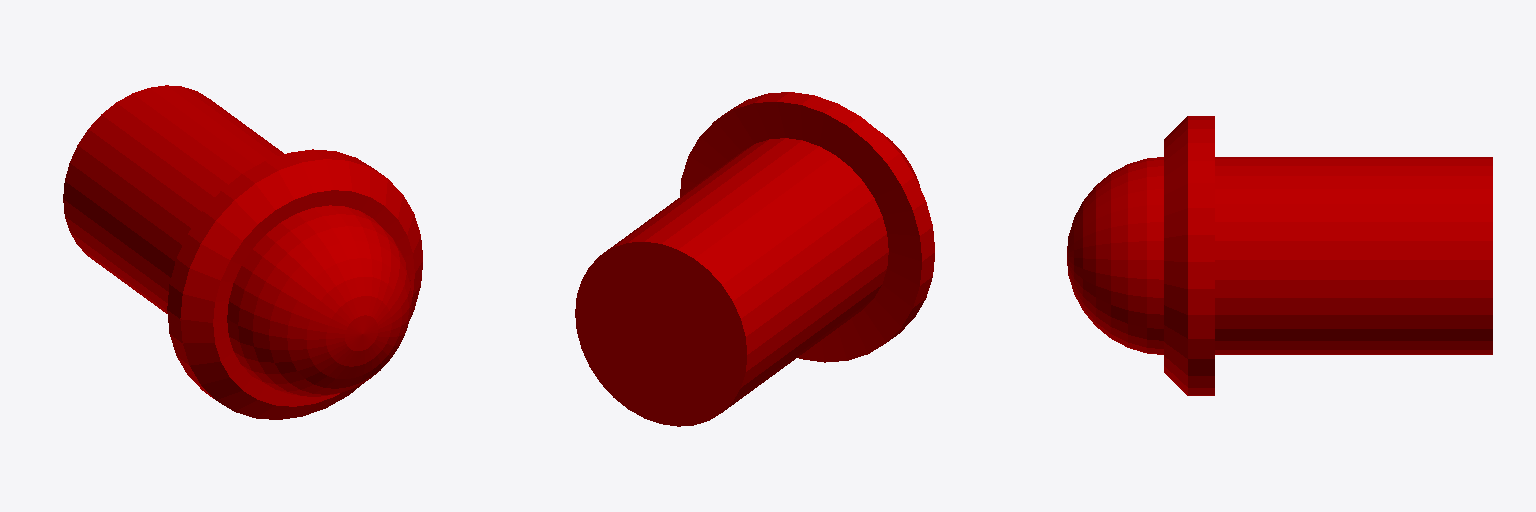
Rendered from Cible.obj.
The picture shows the model from 3 angles: view 1: azimuth 30°, elevation 25°; view 2: azimuth 150°, elevation 25°; view 3: azimuth 270°, elevation 25°; orthographic projection.
Parts seen in each view (by area): view 1: Cylinder; view 2: Cylinder; view 3: Cylinder.
Boxes of the visible parts, box(x1,y1,x2,y2) form: Cylinder: box(63, 85, 422, 419); Cylinder: box(575, 92, 934, 426); Cylinder: box(1067, 116, 1492, 395).
Size of the model in its own units: 28.21 by 28.21 by 42.9.